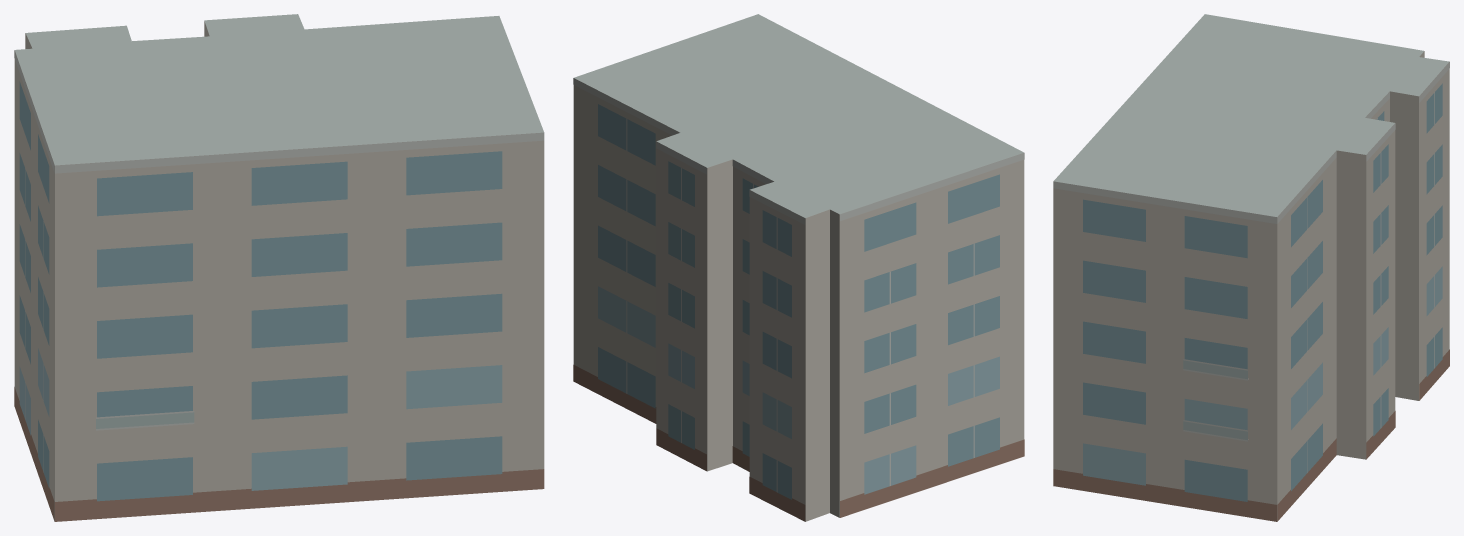
Rendered from survey-upis-32528631.glb.
3 renders of one model, left to right at view 1: azimuth 30°, elevation 25°; view 2: azimuth 150°, elevation 25°; view 3: azimuth 270°, elevation 25°, orthographic. The views are drawn at different scales.
Visible parts, largest first — view 1: survey-upis-32528631.tmp; view 2: survey-upis-32528631.tmp; view 3: survey-upis-32528631.tmp.
Boxes of the visible parts, <box> form: survey-upis-32528631.tmp: <box>14,14,544,521</box>; survey-upis-32528631.tmp: <box>573,14,1024,521</box>; survey-upis-32528631.tmp: <box>1053,14,1449,521</box>.
Size of the model in its own units: 15.31 by 10.7 by 12.62.
